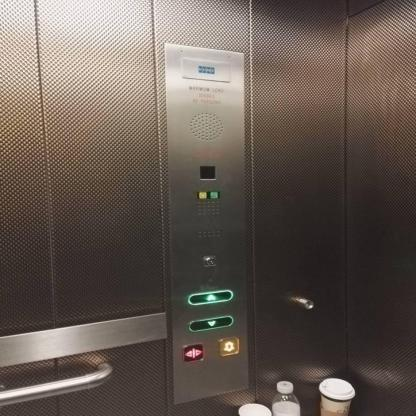alarm: (217, 336, 239, 356), (197, 191, 207, 199)
blur: (208, 190, 219, 199)
down: (188, 315, 234, 331)
keyhole: (202, 254, 215, 266)
led: (198, 165, 216, 179)
open: (181, 342, 205, 363)
up: (186, 290, 233, 304)
